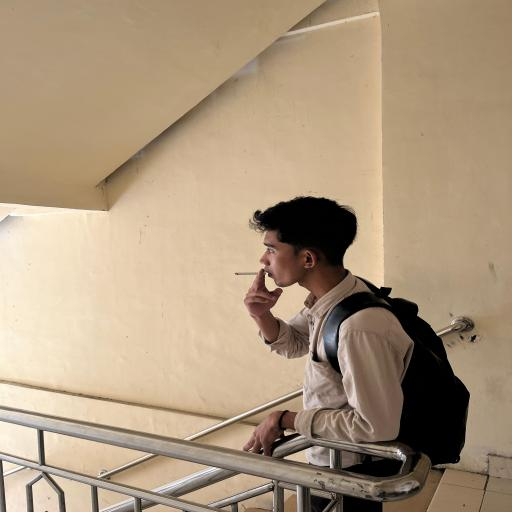dataset-deteksi-merokok: (222, 215, 298, 304)
